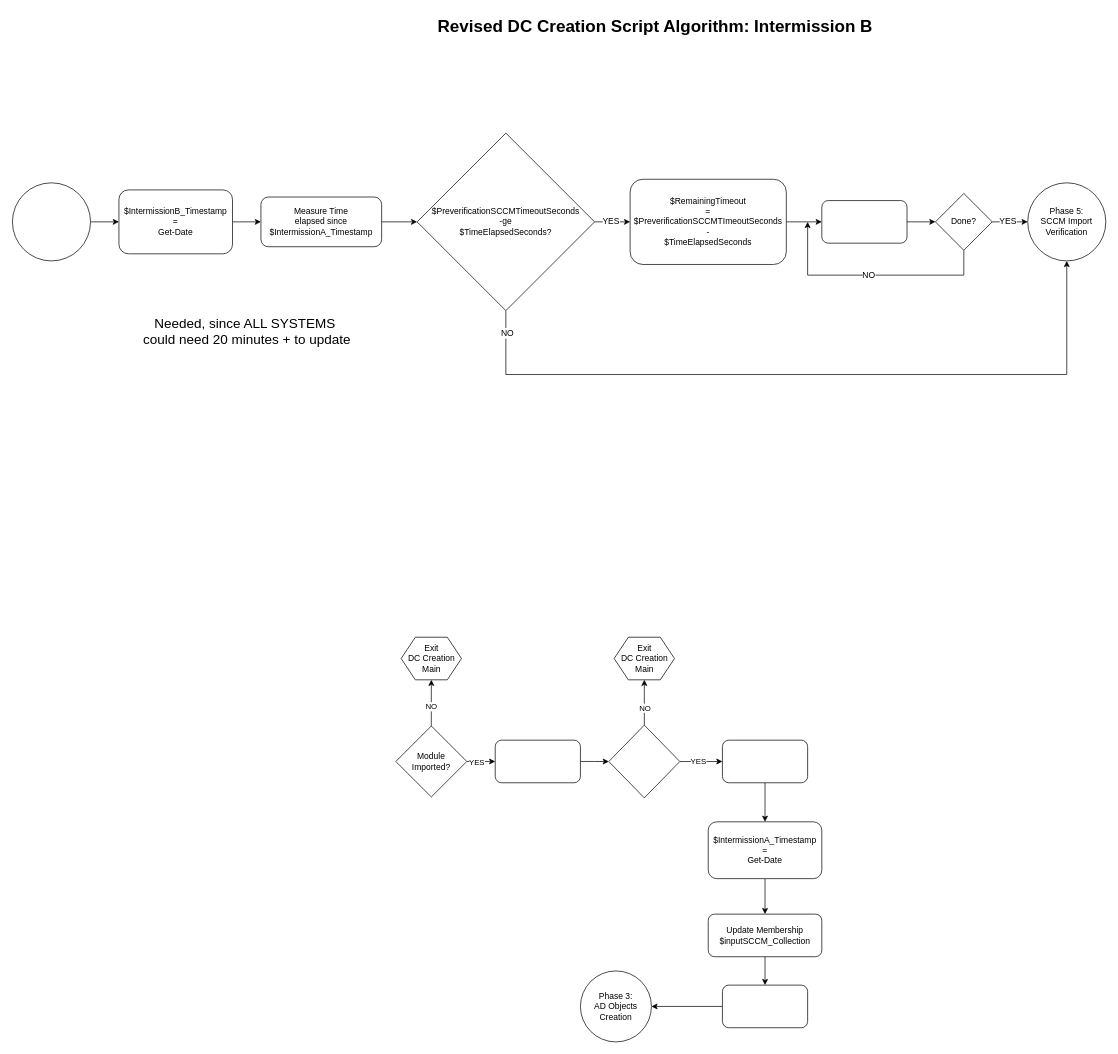
Image size: 1118x1054. Some labels were removed from this diagram. The shapes that lost their labels are listed below. From the top down, each one's centre as x and y in pixels, then its label:
the point at 51,221: Intermission B
the point at 864,221: Wait $ReimaingTimeout
the point at 537,761: cd $InputSCCMDrive
the point at 644,761: Dir Changed?
the point at 765,761: Update Membership ALL SYSTEMS
the point at 765,1006: Change dir $BeginningScriptRoot
